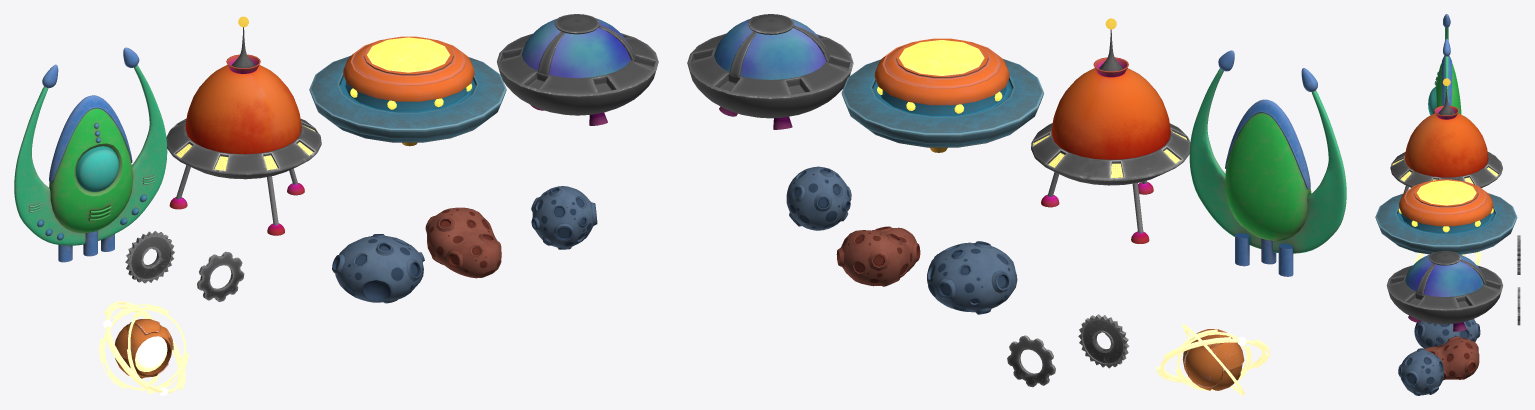
The model's file is models.fbx.
The picture shows the model from 3 angles, left to right: view 1: azimuth 30°, elevation 25°; view 2: azimuth 150°, elevation 25°; view 3: azimuth 270°, elevation 25°; orthographic projection. The views are drawn at different scales.
Visible parts, largest first — view 1: GG, zlo3, zlo_bomb, zlo_prost, pSphere17.001, Asteroid2, Asteroid1, Asteroid0.001, gear2, gear1; view 2: GG, zlo3, zlo_bomb, zlo_prost, Asteroid2, pSphere17.001, Asteroid1, Asteroid0.001, gear2, gear1; view 3: zlo3, zlo_prost, zlo_bomb, Asteroid0.001, Asteroid1, GG, Asteroid2, gear2, gear1.
Boxes of the visible parts, x1,y1,x2,y2 form: GG: (14, 47, 167, 262); zlo3: (309, 36, 506, 146); zlo_bomb: (166, 16, 321, 235); zlo_prost: (497, 14, 658, 125); pSphere17.001: (99, 301, 189, 395); Asteroid2: (332, 234, 424, 303); Asteroid1: (425, 207, 501, 278); Asteroid0.001: (531, 186, 597, 249); gear2: (125, 231, 174, 283); gear1: (197, 251, 244, 301); GG: (1189, 50, 1346, 276); zlo3: (841, 38, 1043, 152); zlo_bomb: (1031, 18, 1190, 243); zlo_prost: (687, 14, 853, 129); Asteroid2: (927, 241, 1017, 314); pSphere17.001: (1156, 324, 1269, 395); Asteroid1: (836, 226, 920, 286); Asteroid0.001: (786, 166, 851, 230); gear2: (1078, 314, 1129, 368); gear1: (1007, 335, 1055, 387); zlo3: (1375, 179, 1517, 254); zlo_prost: (1386, 251, 1503, 331); zlo_bomb: (1390, 78, 1502, 193); Asteroid0.001: (1398, 348, 1444, 395); Asteroid1: (1425, 336, 1479, 380); GG: (1428, 14, 1461, 115); Asteroid2: (1414, 319, 1480, 348); gear2: (1517, 235, 1520, 274); gear1: (1517, 287, 1520, 325).
Bounding box in the file's own units: 656 × 343 × 182.
